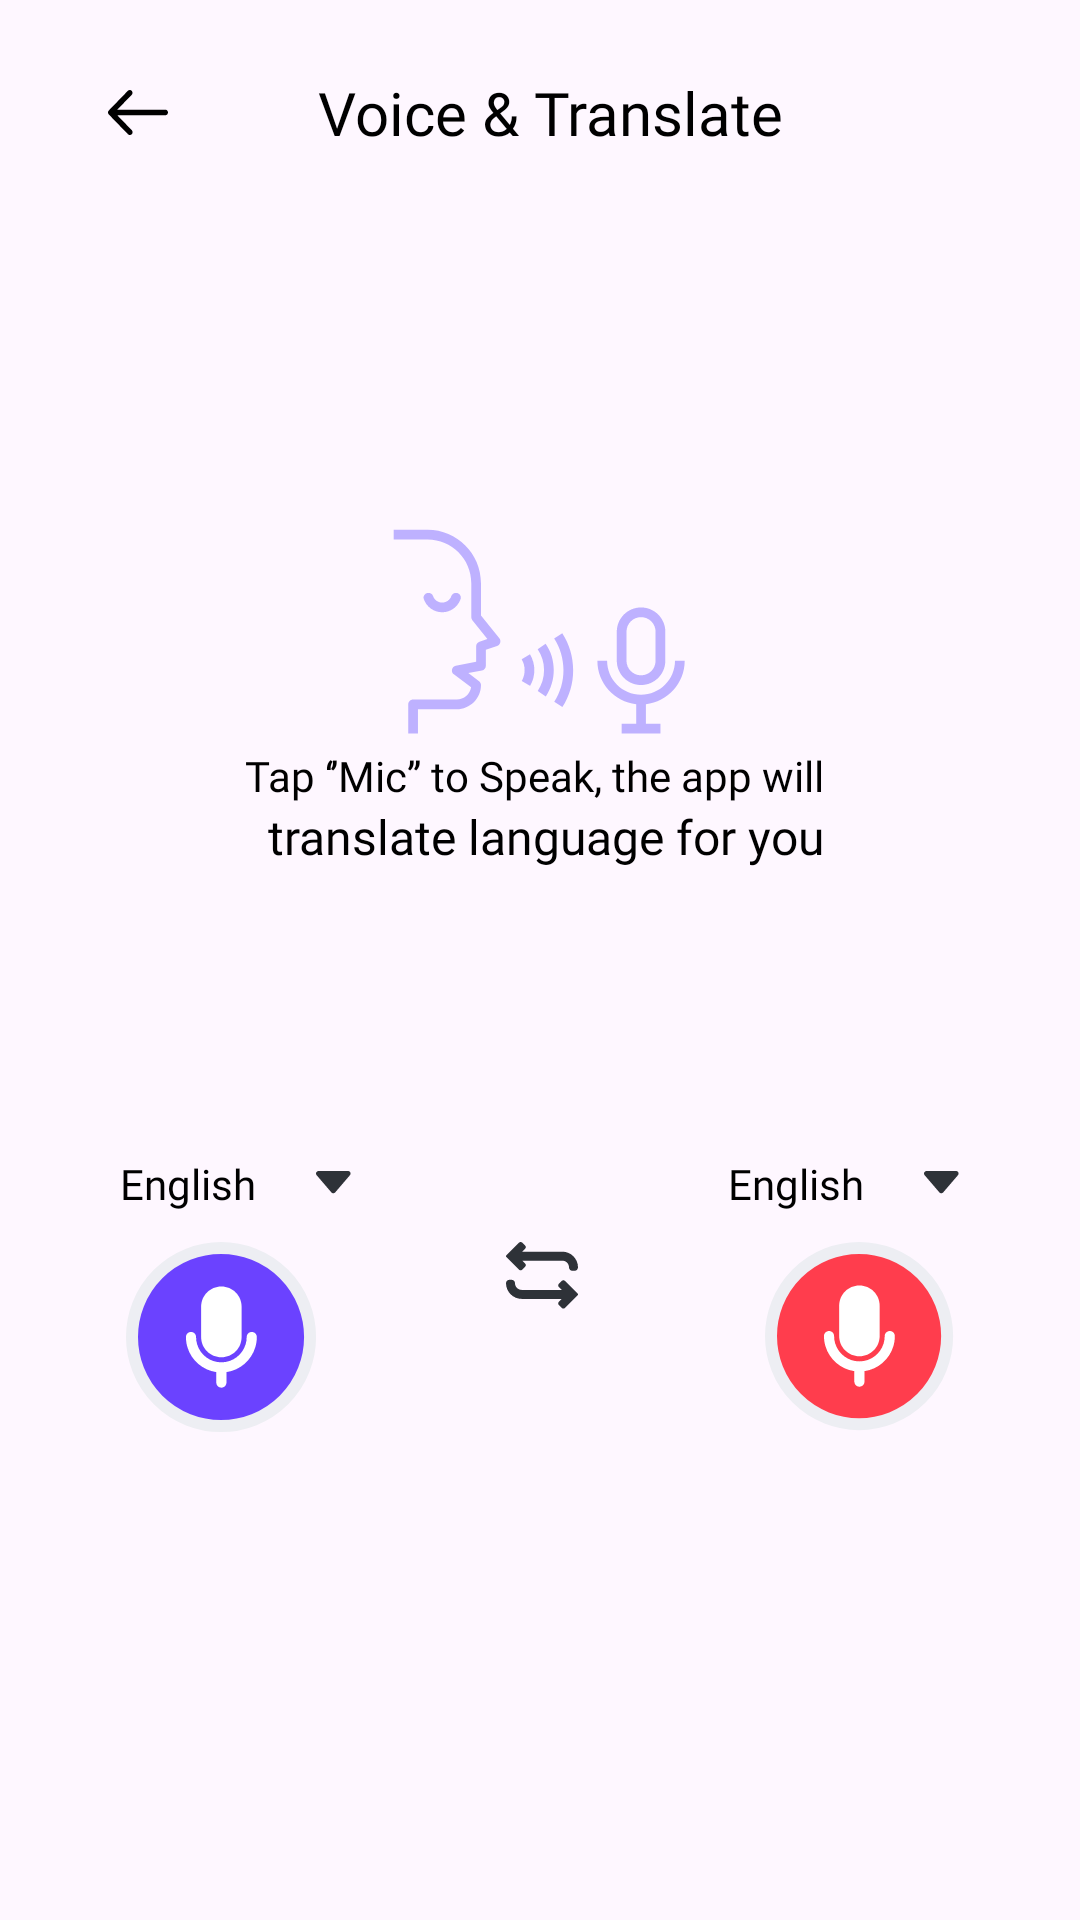

Icon click points for this 1080×1920 phone screenshot, format point (x, y):
back: point (138, 112)
bluemic: point (221, 1337)
redmic: point (859, 1336)
reversegroup: point (542, 1275)
